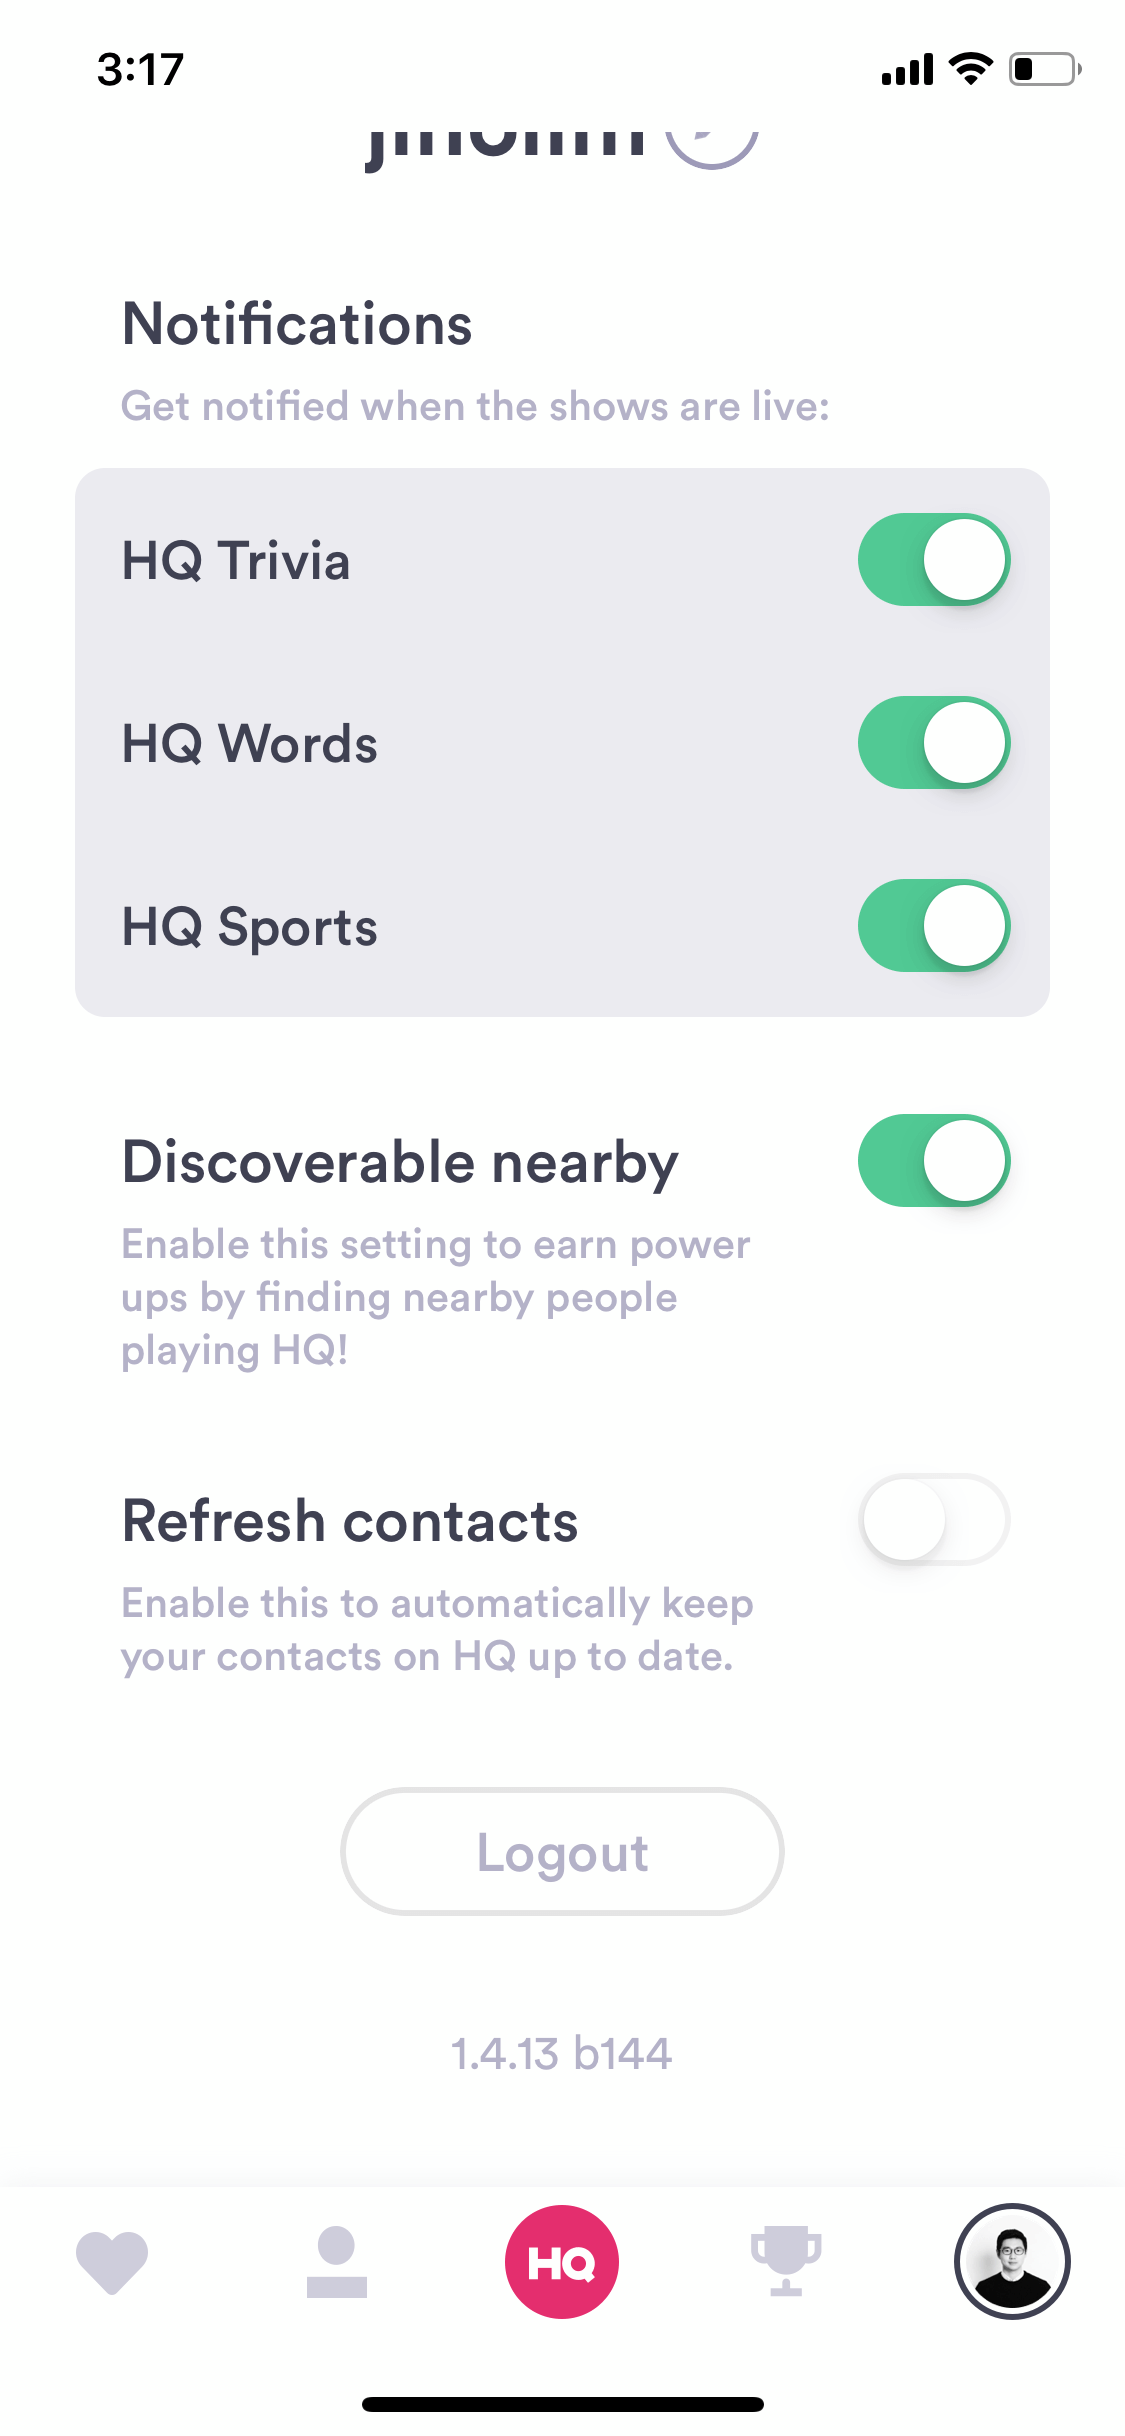Buttons: (342, 1780, 786, 1922)
Switches: (855, 870, 1015, 976), (855, 1108, 1015, 1210), (855, 510, 1016, 611), (856, 694, 1013, 794), (862, 1471, 1013, 1571)
